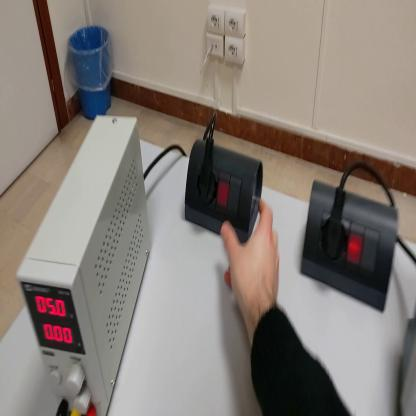hand: (221, 196, 282, 321)
oscilloscope: (398, 302, 416, 415)
power supply: (17, 115, 152, 416)
socket: (300, 178, 401, 315), (186, 136, 265, 239)
